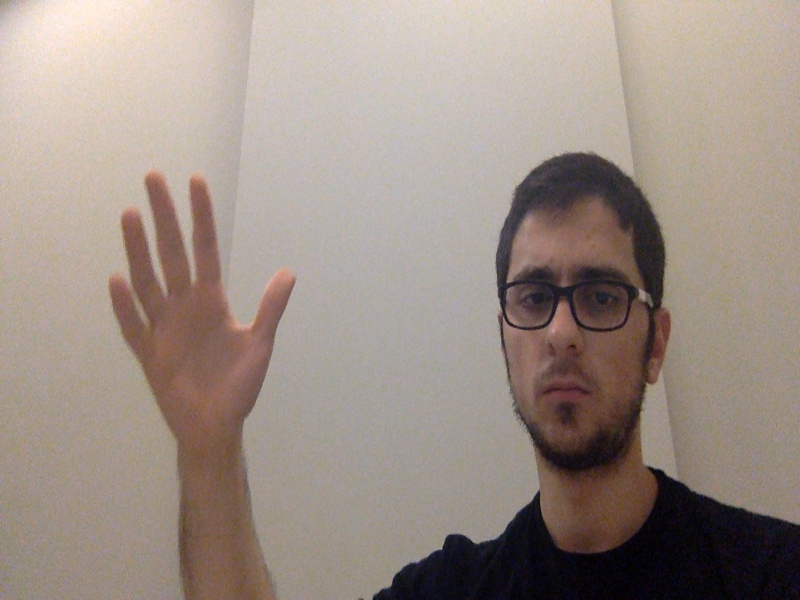5-hand: (109, 171, 296, 439)
